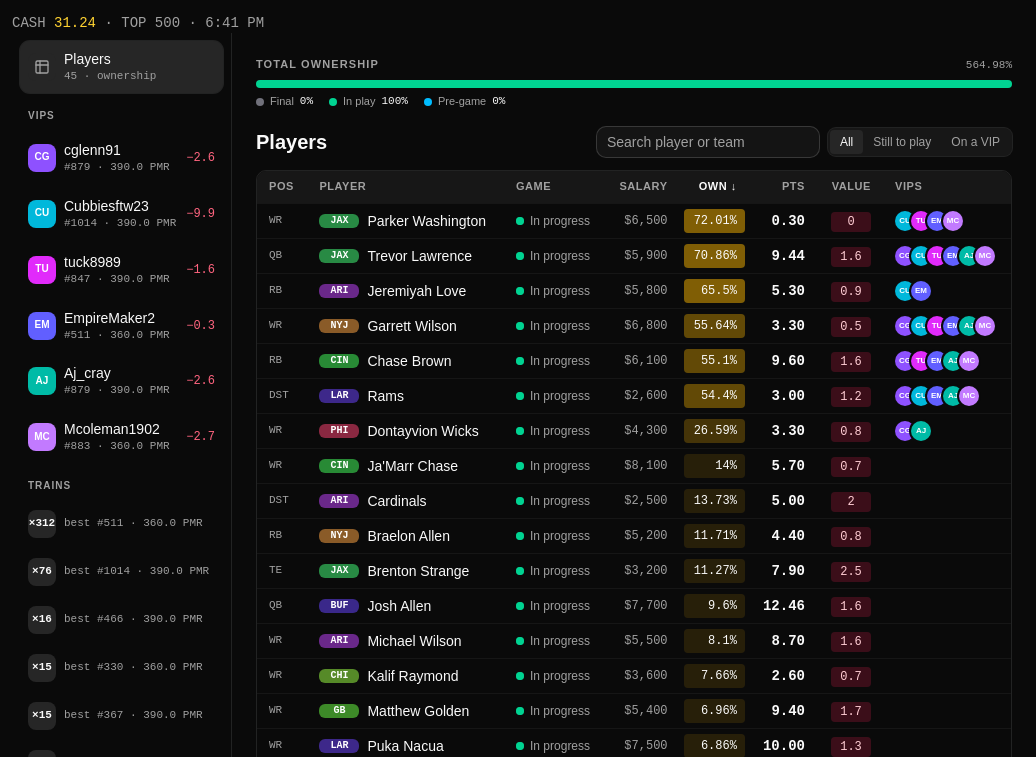
it: Players view › opens a VIP from their avatar
Click the link with aria-label "EmpireMaker2" at (937, 221), box x1=927 y1=211 x2=947 y2=231
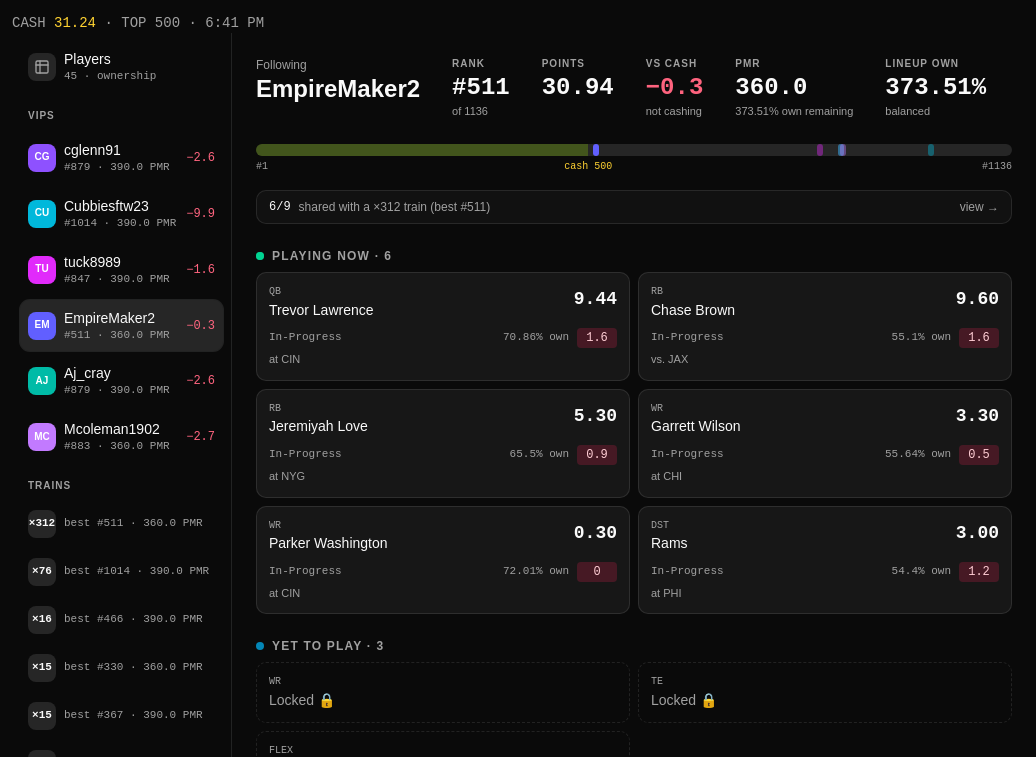
Expected: the heading "EmpireMaker2" is shown, x1=256 y1=73 x2=420 y2=105
